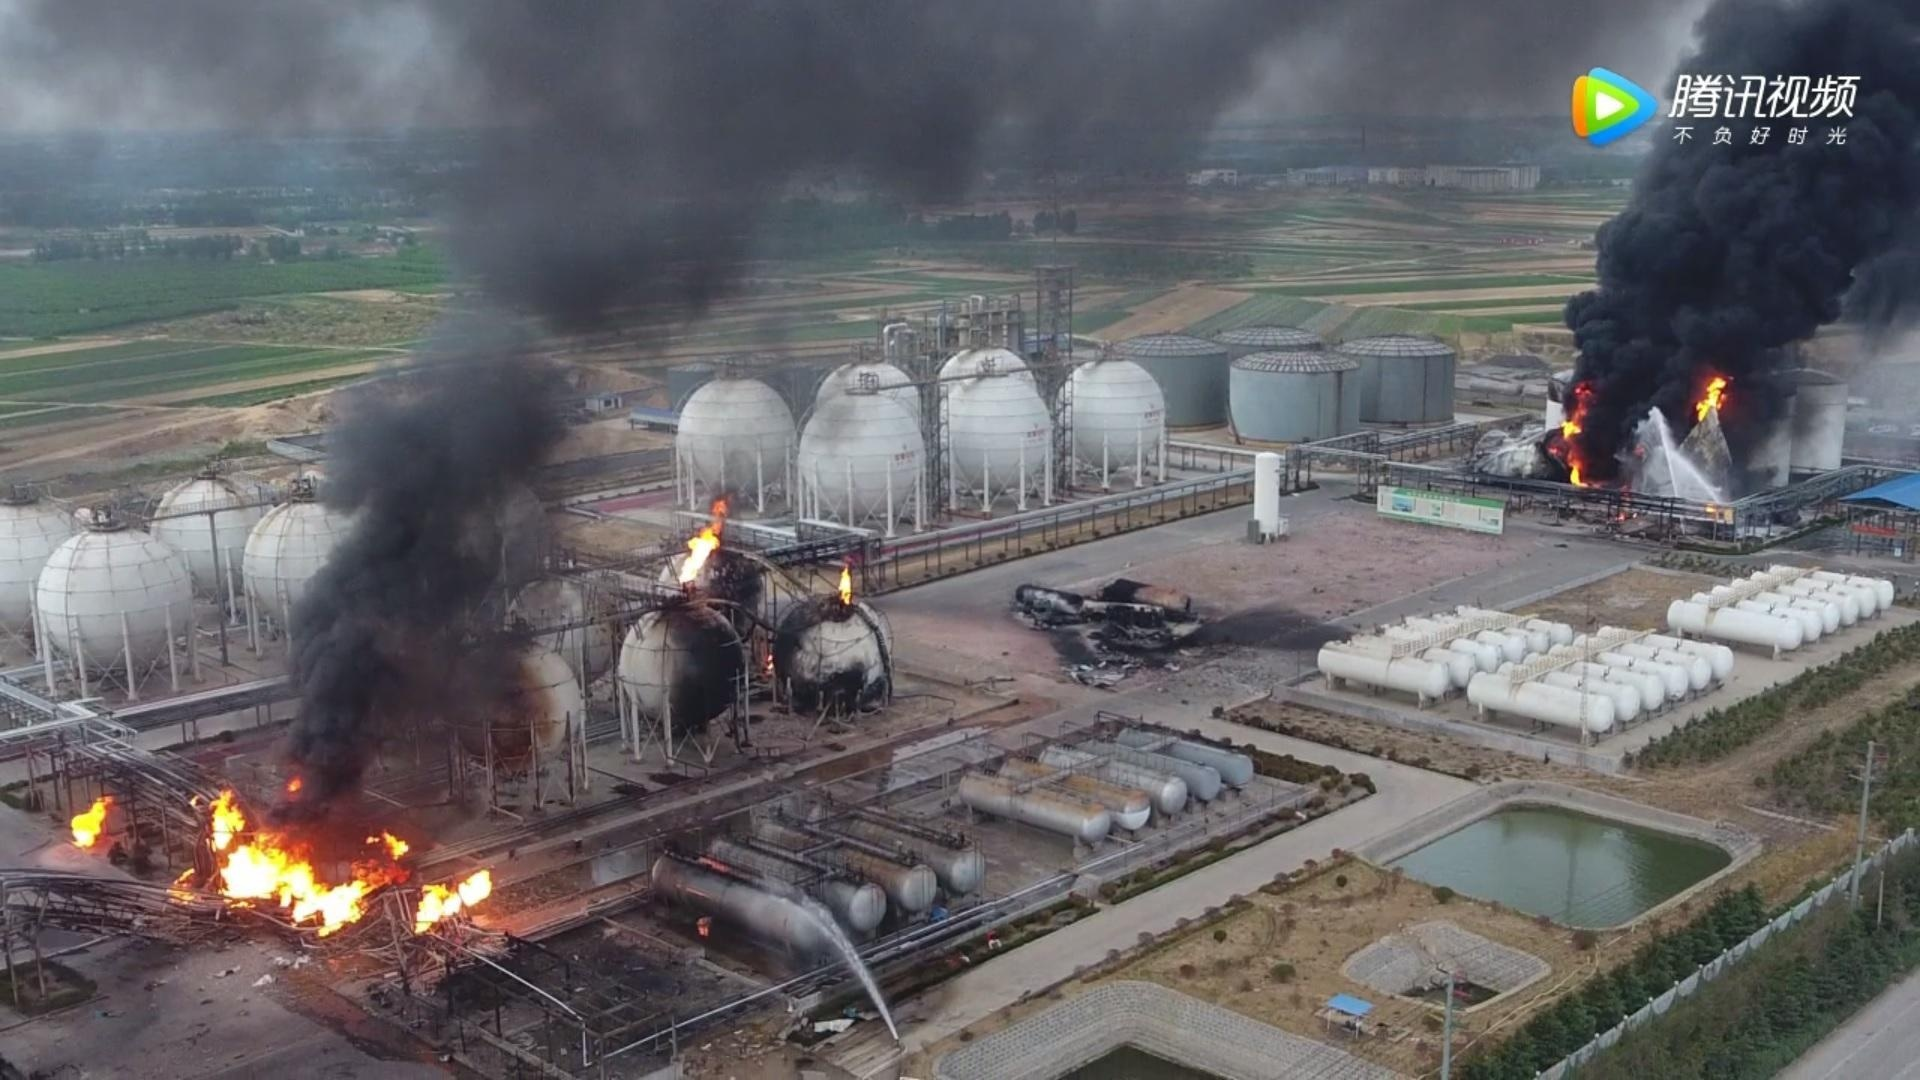fire: (187, 796, 479, 934), (1545, 385, 1602, 492), (411, 862, 491, 934), (676, 497, 729, 584), (65, 790, 115, 848), (1689, 371, 1731, 425), (833, 563, 858, 603)
